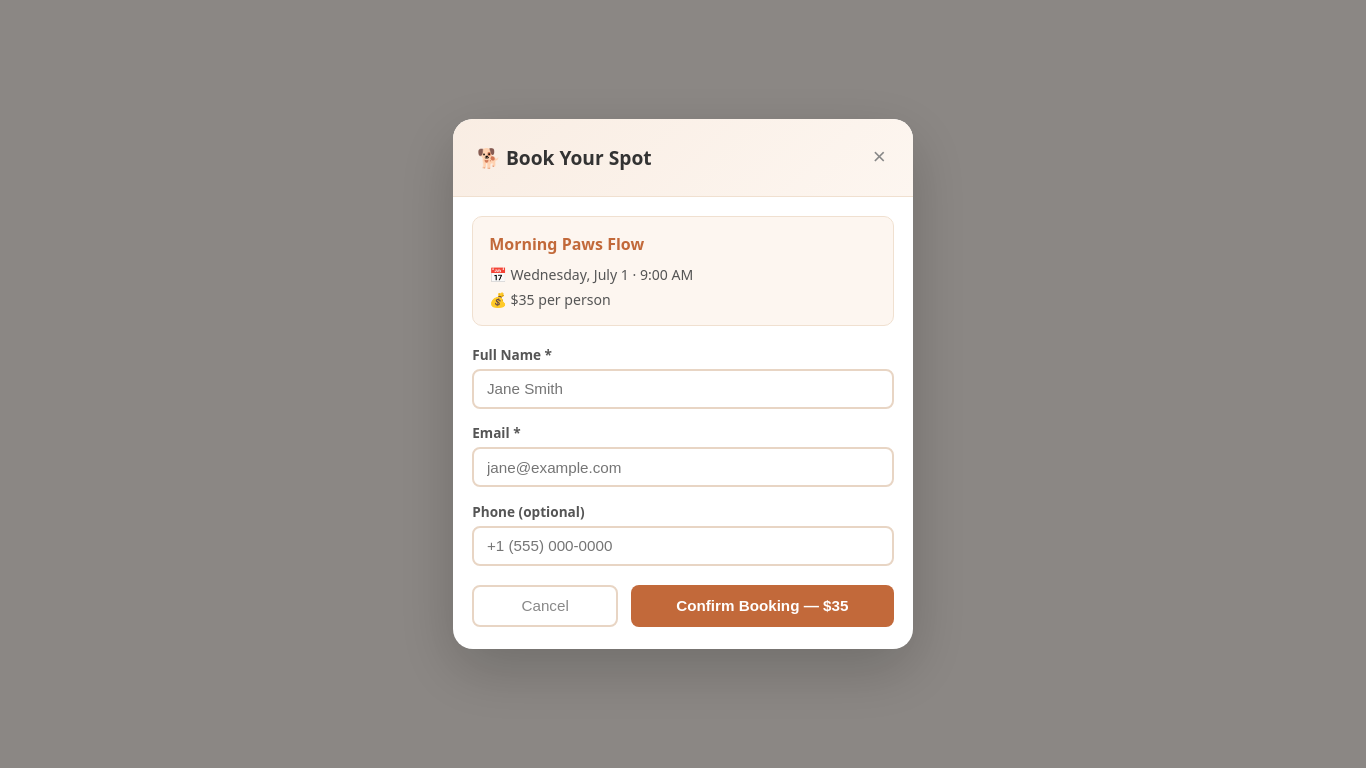
BookingModal › shows email error when email format is invalid
Step 1. Type "Alice" into the field with placeholder "Jane Smith" → (683, 389), box [472,369,894,409]
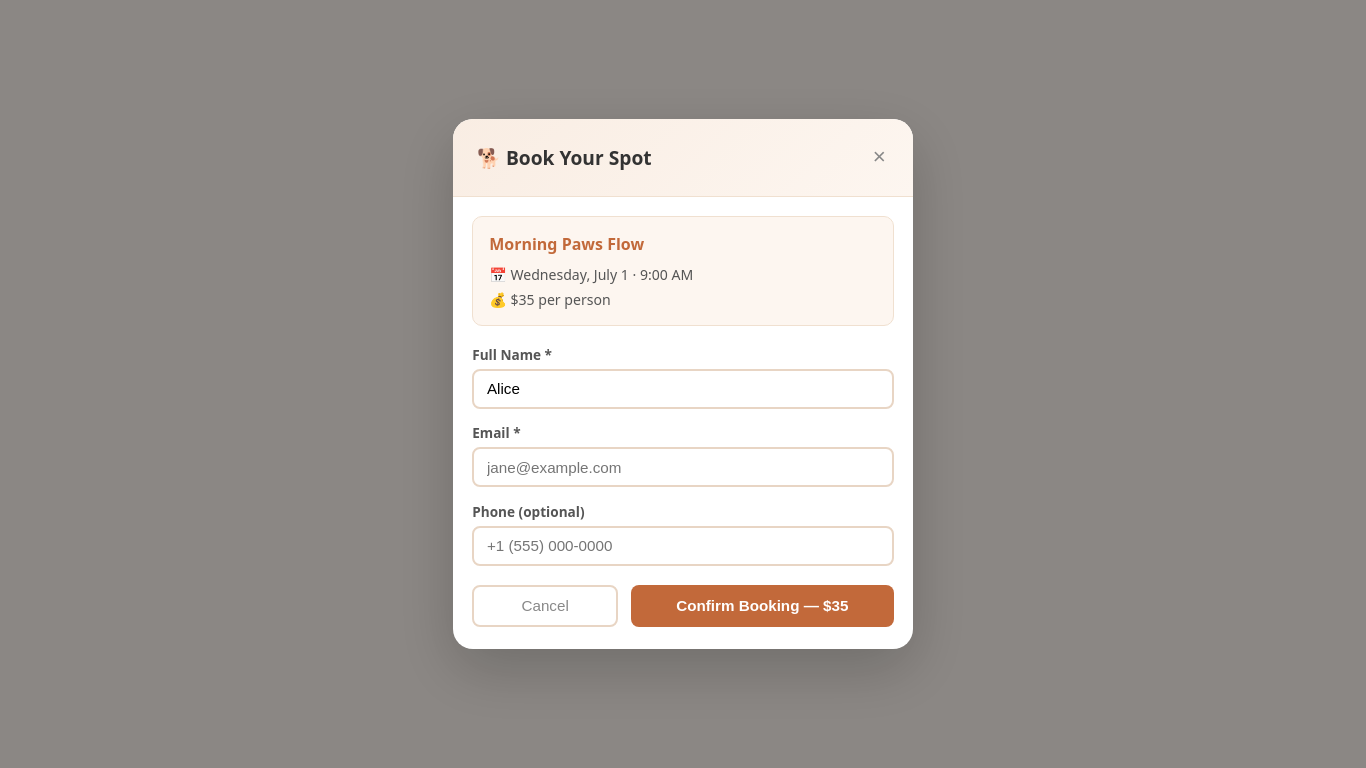
Step 2. Type "not-an-email" into the field with placeholder "jane@example.com" → (683, 467), box [472,447,894,487]
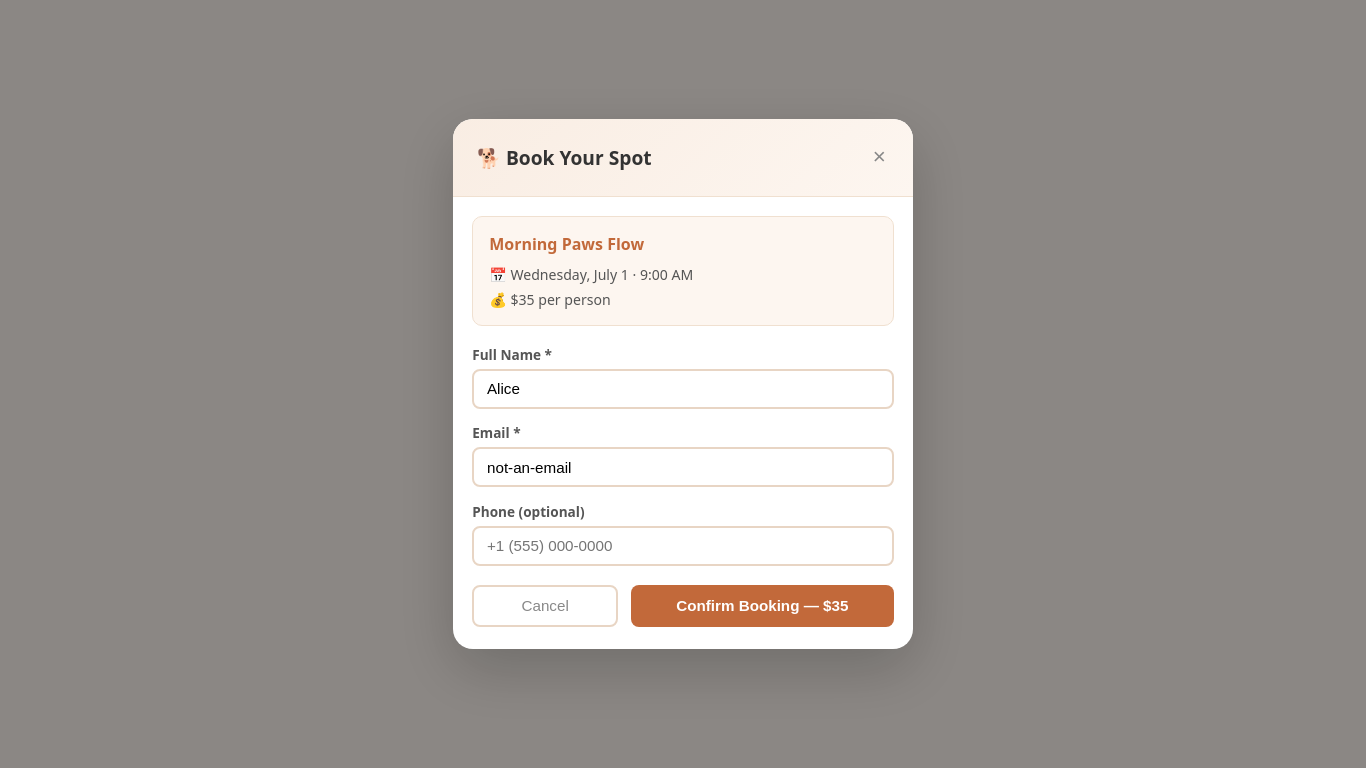
Step 3. Click the button "Confirm Booking — $35" → (762, 606), box [631,585,894,627]
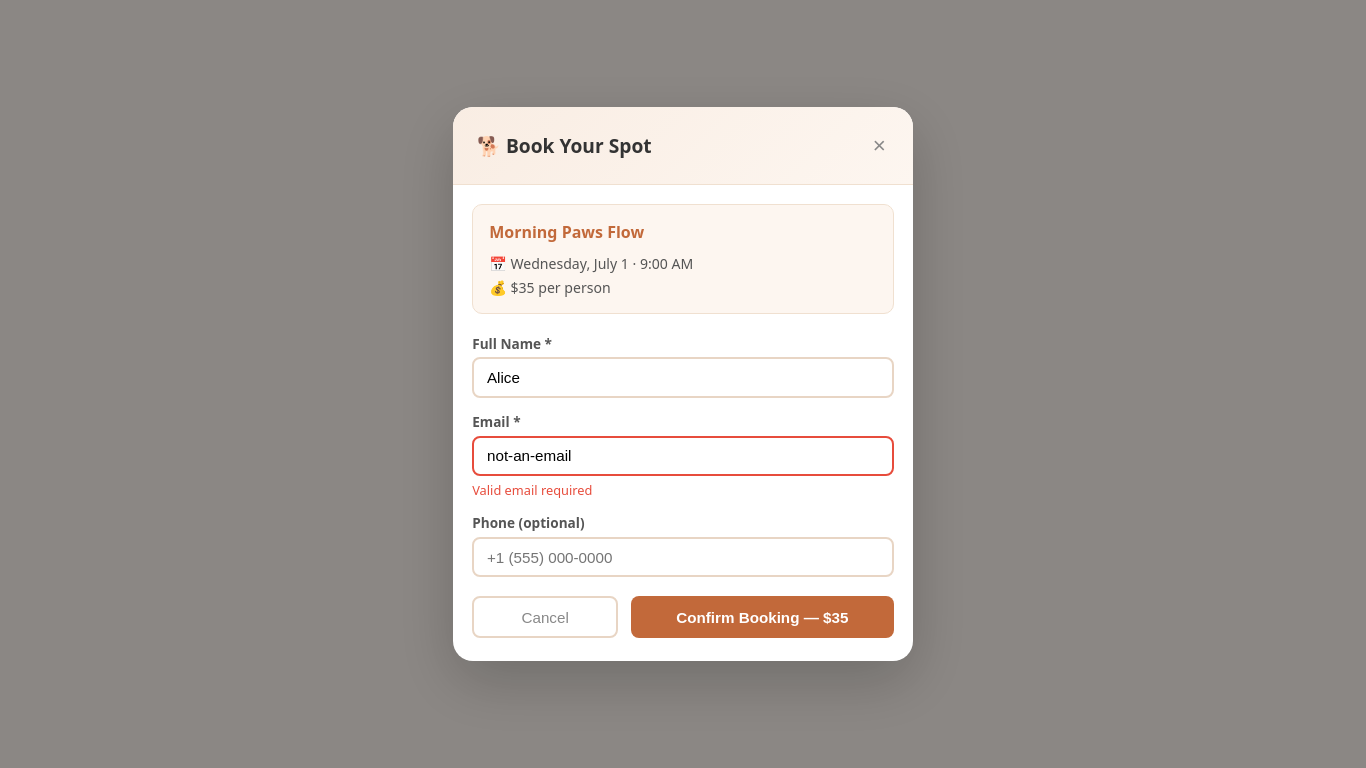
Check: the text "Valid email required" is shown, box [472,481,592,499]
